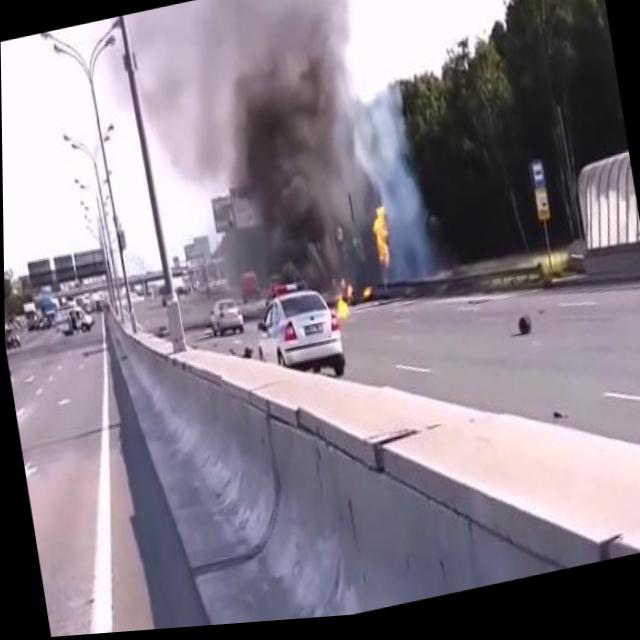fire: (362, 197, 398, 279), (329, 276, 378, 328)
